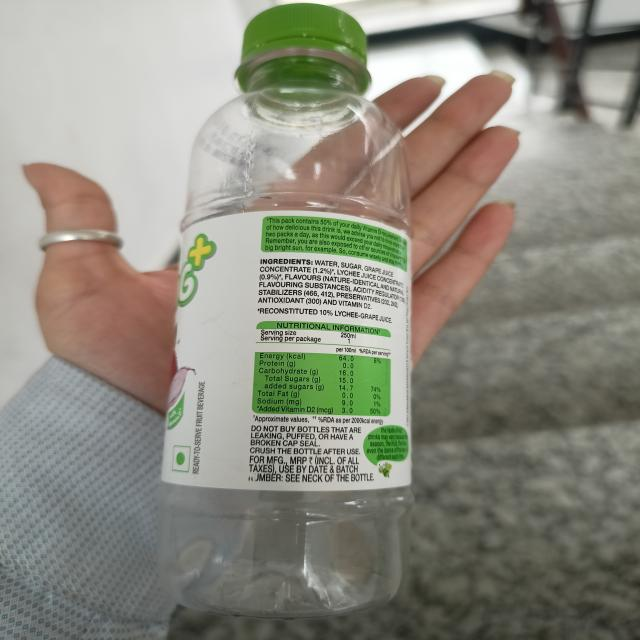plastic_bottle: (112, 8, 503, 640)
